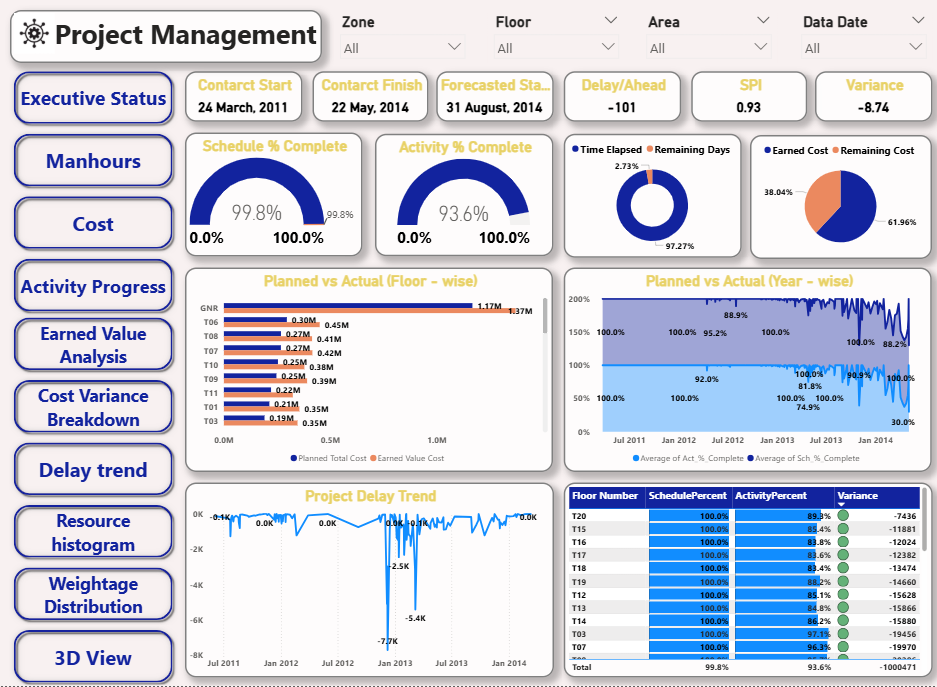

The dashboard page shown, as its layout file describes it:
{"tool":"powerbi","page":{"name":"Executive Status","canvas":[1500,1100],"ordinal":0},"visuals":[{"type":"card","title":"Contarct Start","fields":{"Values":["Min(Summary_Table.Project Start )"]},"box":[296.6,114.7,187.7,81.2],"z":0},{"type":"card","title":"Contarct Finish","fields":{"Values":["Min(Summary_Table.BL Finish Date)"]},"box":[499.5,114.7,186,81.2],"z":1000},{"type":"card","title":"Forecasted Start","fields":{"Values":["Min(Summary_Table.Project Finish )"]},"box":[699,114.7,187.7,81.2],"z":2000},{"type":"card","title":"Delay/Ahead","fields":{"Values":["Sum(Summary_Table.Project Delay)"]},"box":[901.9,114.7,187.7,81.2],"z":3000},{"type":"card","title":"SPI","fields":{"Values":["Sum(Summary_Table.SPI)"]},"box":[1106.4,114.7,186,81.2],"z":4000},{"type":"card","title":"Variance","fields":{"Values":["Sum(Summary_Table.Variance)"]},"box":[1304.2,114.7,187.7,81.2],"z":5000},{"type":"textbox","box":[15.2,16.2,499.3,84.6],"z":6000},{"type":"image","box":[15.2,16.9,77.9,74.5],"z":7000},{"type":"slicer","fields":{"Values":["Floorcodes_Table.Floor Code Value"]},"box":[780.3,16.9,220,84.6],"z":8000},{"type":"slicer","fields":{"Values":["H areas_Table.H aresCode Value"]},"box":[1024,16.9,220,84.6],"z":9000},{"type":"slicer","fields":{"Values":["Aug14tasks_Table.Zone Number"]},"box":[534.9,16.9,220,84.6],"z":10000},{"type":"slicer","fields":{"Values":["Summary_Table.Data Date."]},"box":[1272.9,16.9,220,84.6],"z":11000},{"type":"gauge","fields":{"Y":["Aug14tasks_Table.ActivityPercent"]},"box":[600,214.5,285.5,196.4],"z":12000},{"type":"gauge","title":"Schedule % Complete","fields":{"Y":["Aug14tasks_Table.SchedulePercent"]},"box":[296.4,212.7,283.6,198.2],"z":13000},{"type":"donutChart","fields":{"Y":["Sum(Summary_Table.Elapsed Duration )","Count(Aug14tasks_Table.Remaining Duration)"]},"box":[901.8,214,285,198.2],"z":14000},{"type":"pieChart","fields":{"Y":["Sum(Aug14tasks_Table.Earned Value Cost)","Sum(Aug14tasks_Table.Budgeted Total Cost)"]},"box":[1200,215.8,291.2,198.2],"z":15000},{"type":"clusteredBarChart","title":"Planned vs Actual (Floor - wise)","fields":{"Category":["Aug14tasks_Table.Floor Number"],"Y":["Sum(Aug14tasks_Table.Budgeted Total Cost)","Sum(Aug14tasks_Table.Earned Value Cost)"]},"box":[296.4,427.3,589.1,327.3],"z":16000},{"type":"stackedAreaChart","title":"Planned vs Actual (Year - wise)","fields":{"Category":["Aug14tasks_Table.Actual Start"],"Y":["Avg(Aug14tasks_Table.Act_%_Complete)","Avg(Aug14tasks_Table.Sch_%_Complete)"]},"box":[901.8,427.3,589.1,327.3],"z":17000},{"type":"lineChart","title":"Project Delay Trend","fields":{"Category":["Aug14tasks_Table.Finish"],"Y":["Sum(Aug14tasks_Table.DelayDays)"]},"box":[296,772,590,312],"z":18000},{"type":"tableEx","fields":{"Values":["Aug14tasks_Table.Floor Number","Aug14tasks_Table.SchedulePercent","Aug14tasks_Table.ActivityPercent","Sum(Aug14tasks_Table.Variance - BL Project Finish Date)"]},"box":[902,772,590,312],"z":19000},{"type":"actionButton","box":[14,106,270,100],"z":20000},{"type":"actionButton","box":[14,206,270,100],"z":21000},{"type":"actionButton","box":[14,306,270,100],"z":22000},{"type":"actionButton","box":[14,406,270,100],"z":23000},{"type":"actionButton","box":[14,500,270,100],"z":24000},{"type":"actionButton","box":[14,600,270,100],"z":25000},{"type":"actionButton","box":[14,700,270,100],"z":26000},{"type":"actionButton","box":[14,800,270,100],"z":27000},{"type":"actionButton","box":[14,900,270,100],"z":28000},{"type":"actionButton","box":[14,1000,270,100],"z":29000}]}

Visuals, with their boxes in screenshot pixels (x1, y1, x2, y2), scaled from the page's 1500x1100 canvas onto the 937x687 screenshot:
"Contarct Start" card: [185, 72, 303, 122]
"Contarct Finish" card: [312, 72, 428, 122]
"Forecasted Start" card: [437, 72, 554, 122]
"Delay/Ahead" card: [563, 72, 681, 122]
"SPI" card: [691, 72, 807, 122]
"Variance" card: [815, 72, 932, 122]
textbox: [9, 10, 321, 63]
image: [9, 11, 58, 57]
slicer - Floorcodes_Table.Floor Code Value: [487, 11, 625, 63]
slicer - H areas_Table.H aresCode Value: [640, 11, 777, 63]
slicer - Aug14tasks_Table.Zone Number: [334, 11, 472, 63]
slicer - Summary_Table.Data Date.: [795, 11, 933, 63]
gauge - Aug14tasks_Table.ActivityPercent: [375, 134, 553, 257]
"Schedule % Complete" gauge: [185, 133, 362, 257]
donutChart - Sum(Summary_Table.Elapsed Duration ) x Count(Aug14tasks_Table.Remaining Duration): [563, 134, 741, 257]
pieChart - Sum(Aug14tasks_Table.Earned Value Cost) x Sum(Aug14tasks_Table.Budgeted Total Cost): [750, 135, 932, 259]
"Planned vs Actual (Floor - wise)" clusteredBarChart: [185, 267, 553, 471]
"Planned vs Actual (Year - wise)" stackedAreaChart: [563, 267, 931, 471]
"Project Delay Trend" lineChart: [185, 482, 553, 677]
tableEx - Aug14tasks_Table.Floor Number x Aug14tasks_Table.SchedulePercent: [563, 482, 932, 677]
actionButton: [9, 66, 177, 129]
actionButton: [9, 129, 177, 191]
actionButton: [9, 191, 177, 254]
actionButton: [9, 254, 177, 316]
actionButton: [9, 312, 177, 375]
actionButton: [9, 375, 177, 437]
actionButton: [9, 437, 177, 500]
actionButton: [9, 500, 177, 562]
actionButton: [9, 562, 177, 625]
actionButton: [9, 625, 177, 686]
